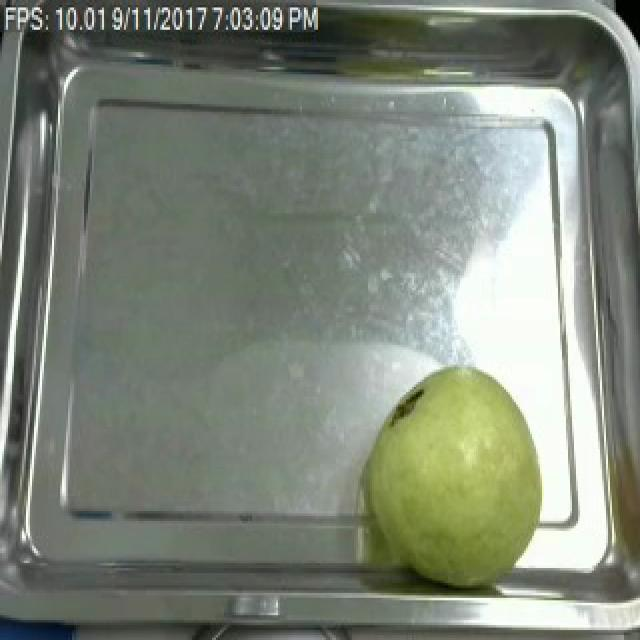Fruit: (356, 360, 554, 593)
